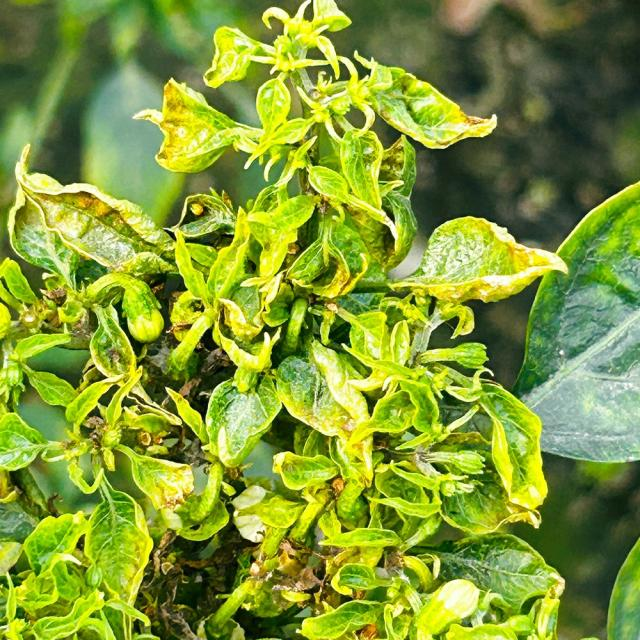Chilli_Leaf_Curl: (1, 1, 572, 638), (509, 180, 639, 463), (7, 142, 175, 282), (388, 214, 568, 306), (131, 76, 261, 174)
